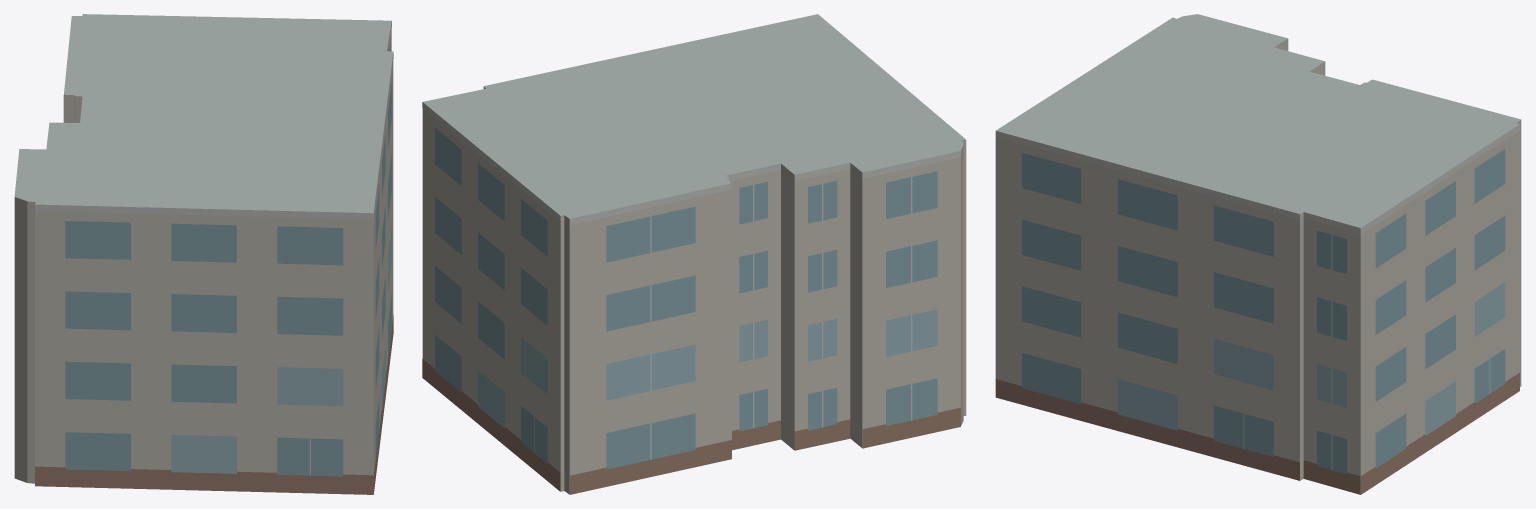
File: survey-upis-32919014.glb
3 renders of one model, left to right at view 1: azimuth 30°, elevation 25°; view 2: azimuth 150°, elevation 25°; view 3: azimuth 270°, elevation 25°, orthographic. The views are drawn at different scales.
Visible parts, largest first — view 1: survey-upis-32919014.tmp; view 2: survey-upis-32919014.tmp; view 3: survey-upis-32919014.tmp.
Boxes of the visible parts, x1,y1,x2,y2 form: survey-upis-32919014.tmp: (14, 14, 393, 494); survey-upis-32919014.tmp: (422, 14, 966, 494); survey-upis-32919014.tmp: (995, 14, 1521, 494).
Size of the model in its own units: 18.26 by 10.6 by 18.94.
